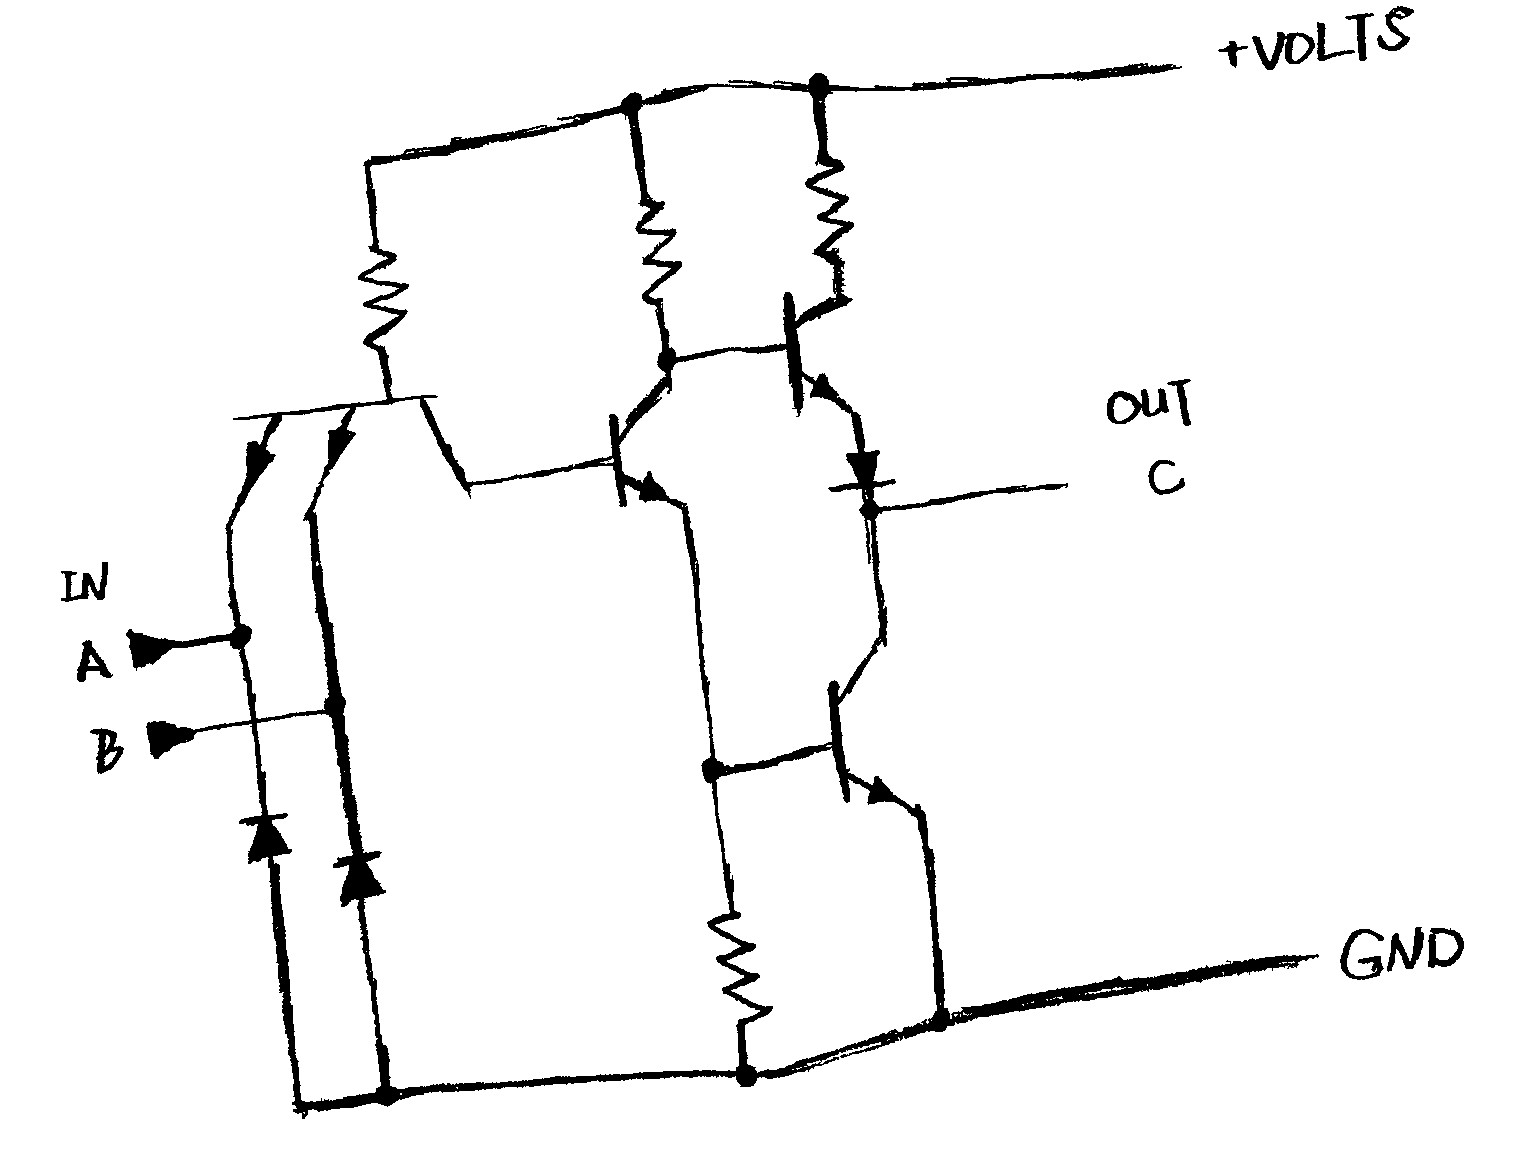crossover: (244, 710, 265, 728)
diode: (233, 801, 302, 869), (327, 845, 397, 909), (826, 447, 901, 494)
junction: (314, 680, 356, 731), (282, 1078, 323, 1127), (920, 996, 965, 1039), (216, 611, 262, 653), (698, 743, 731, 797), (801, 64, 837, 113), (613, 85, 652, 128), (726, 1056, 769, 1093), (351, 142, 389, 182), (649, 342, 689, 376), (369, 1081, 412, 1110), (857, 497, 891, 528)
resistor: (701, 895, 783, 1035), (626, 188, 691, 315), (352, 232, 415, 361), (798, 145, 861, 270)
terminal: (1260, 926, 1332, 978), (142, 714, 204, 762), (1034, 459, 1095, 507), (123, 624, 181, 672), (1145, 45, 1199, 90)
text: (1252, 2, 1426, 74), (1336, 918, 1465, 984), (1101, 374, 1199, 436), (47, 555, 115, 609), (1143, 453, 1193, 502), (68, 637, 114, 689), (88, 722, 127, 778), (1215, 35, 1248, 69)
transistor.bjt: (213, 381, 480, 538), (805, 620, 941, 826), (590, 378, 704, 525), (766, 283, 871, 424)
